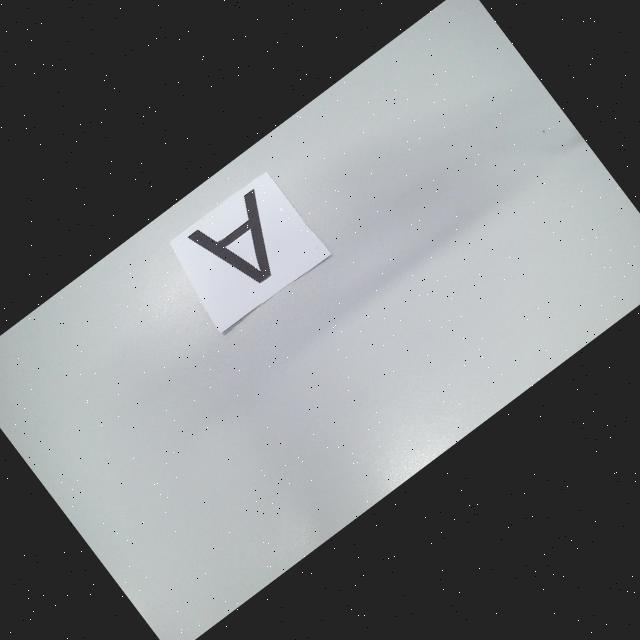FAKE: (188, 186, 302, 302)
